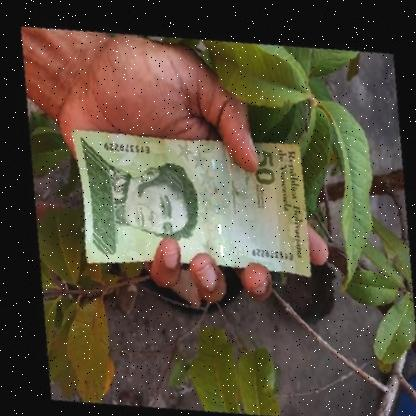fifty-front-vef: (54, 96, 323, 302)
